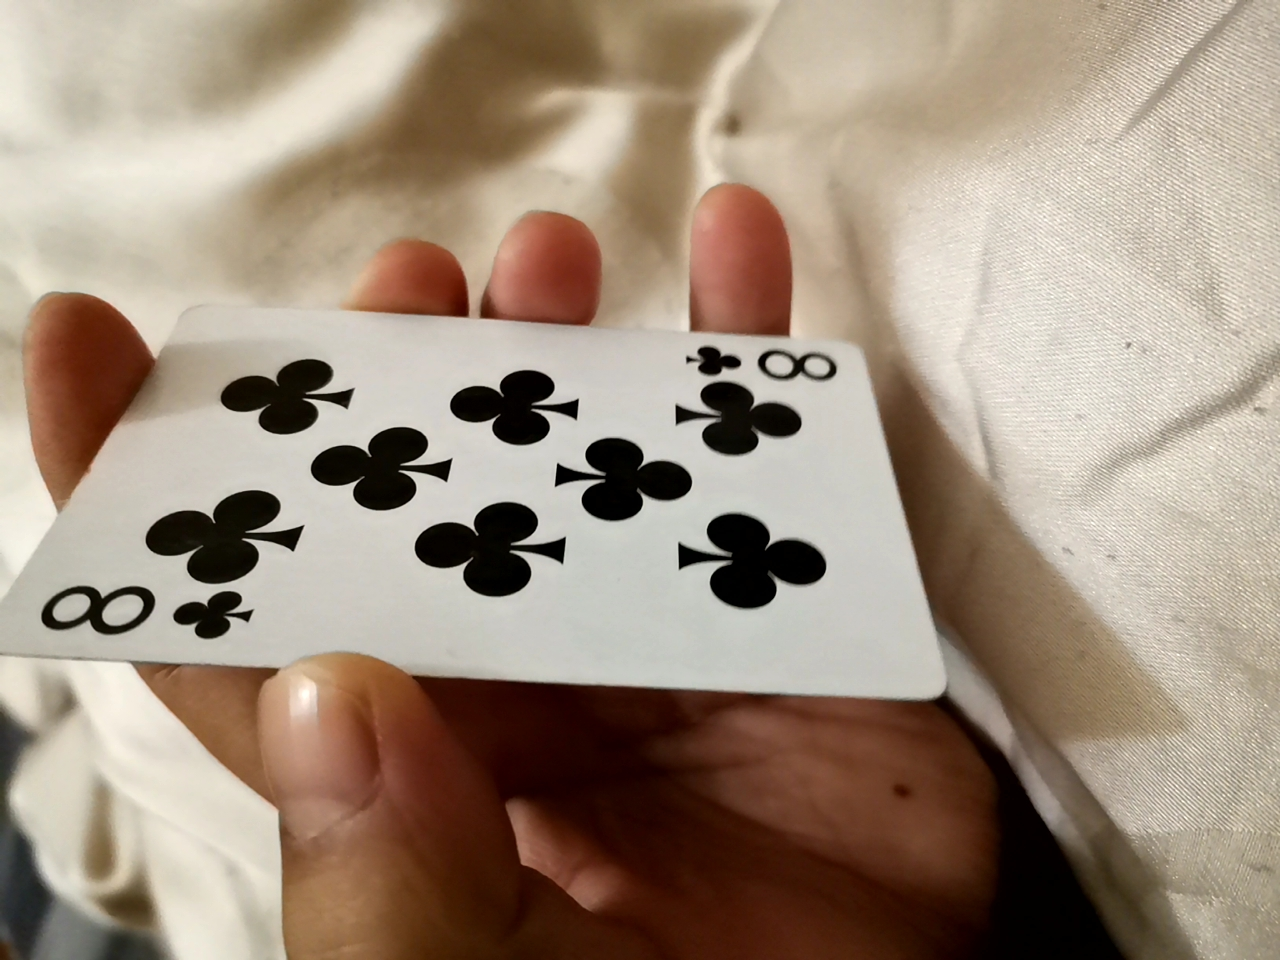mh 8: (18, 302, 971, 701)
